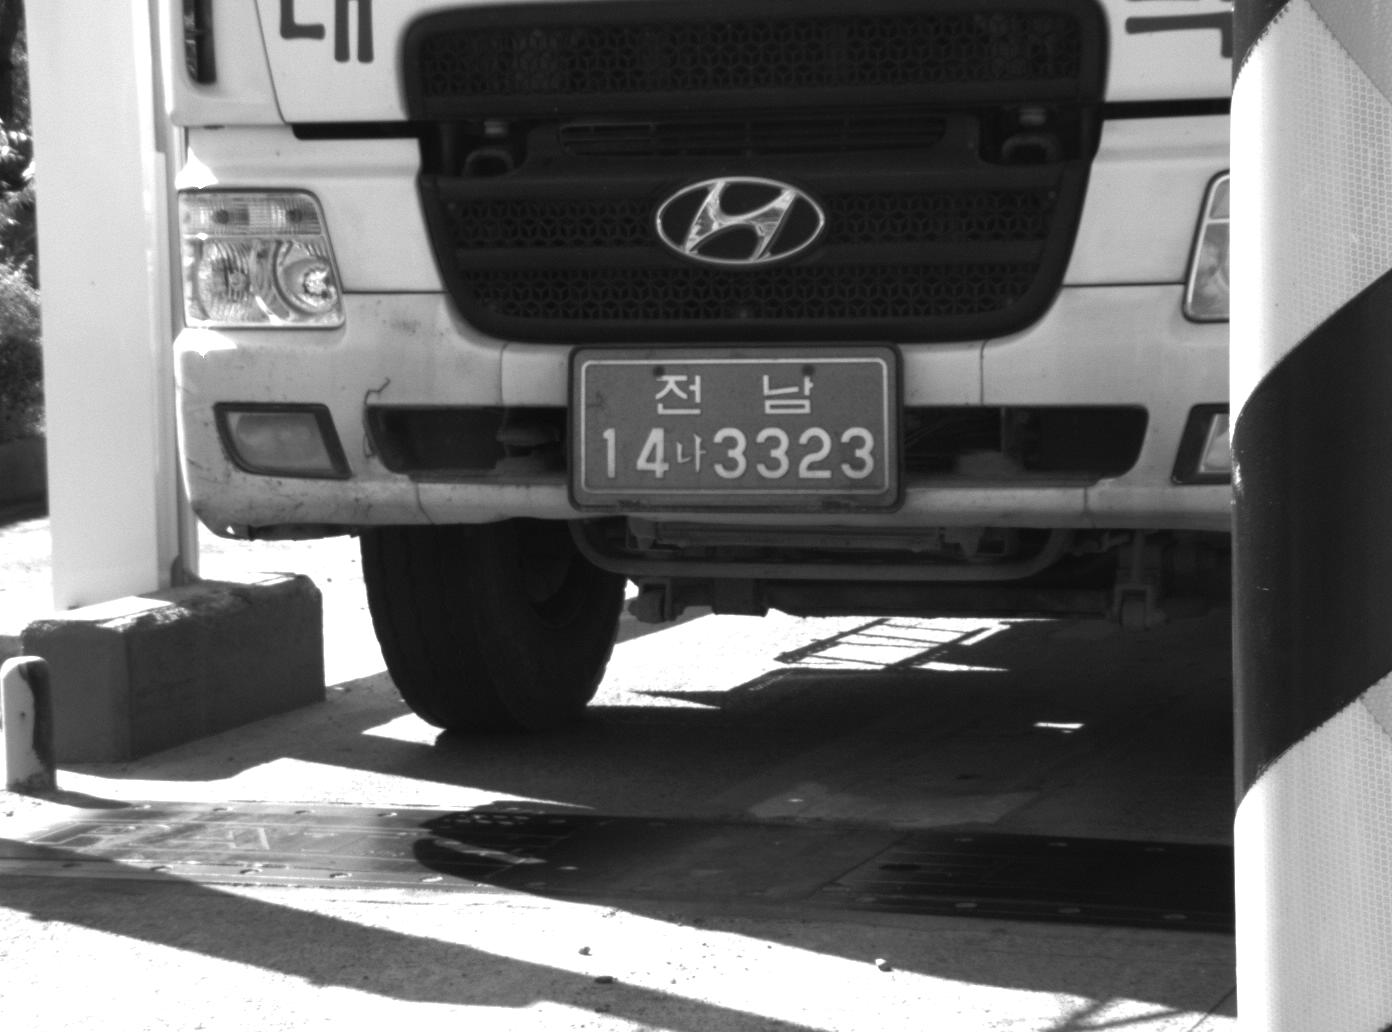car: (148, 1, 1228, 730)
plate: (564, 342, 902, 503)
